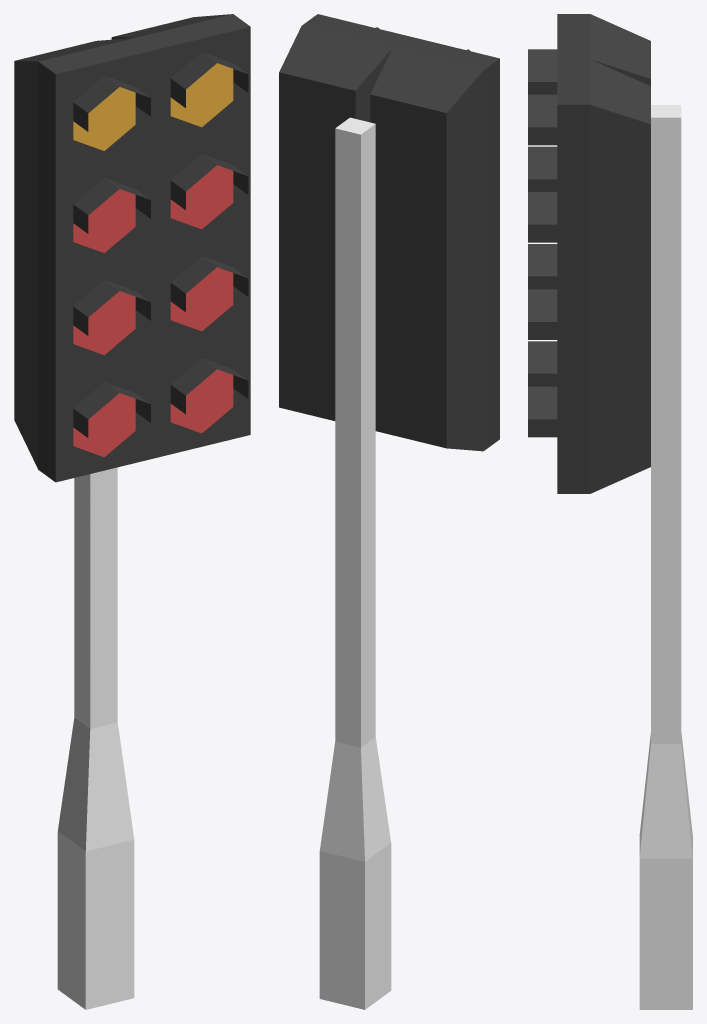
File: light-red-double.glb
3 views of the same model, side by side, from view 1: azimuth 30°, elevation 25°; view 2: azimuth 150°, elevation 25°; view 3: azimuth 270°, elevation 25° (orthographic). The views are drawn at different scales.
Visible parts, largest first — view 1: lightRedDouble(Clone); view 2: lightRedDouble(Clone); view 3: lightRedDouble(Clone).
Part boxes in pixels (x1,y1,x2,y2): lightRedDouble(Clone): (14,14,250,1009); lightRedDouble(Clone): (279,14,499,1009); lightRedDouble(Clone): (528,14,692,1009).
Size of the model in its own units: 0.1416 by 0.6834 by 0.1087.
